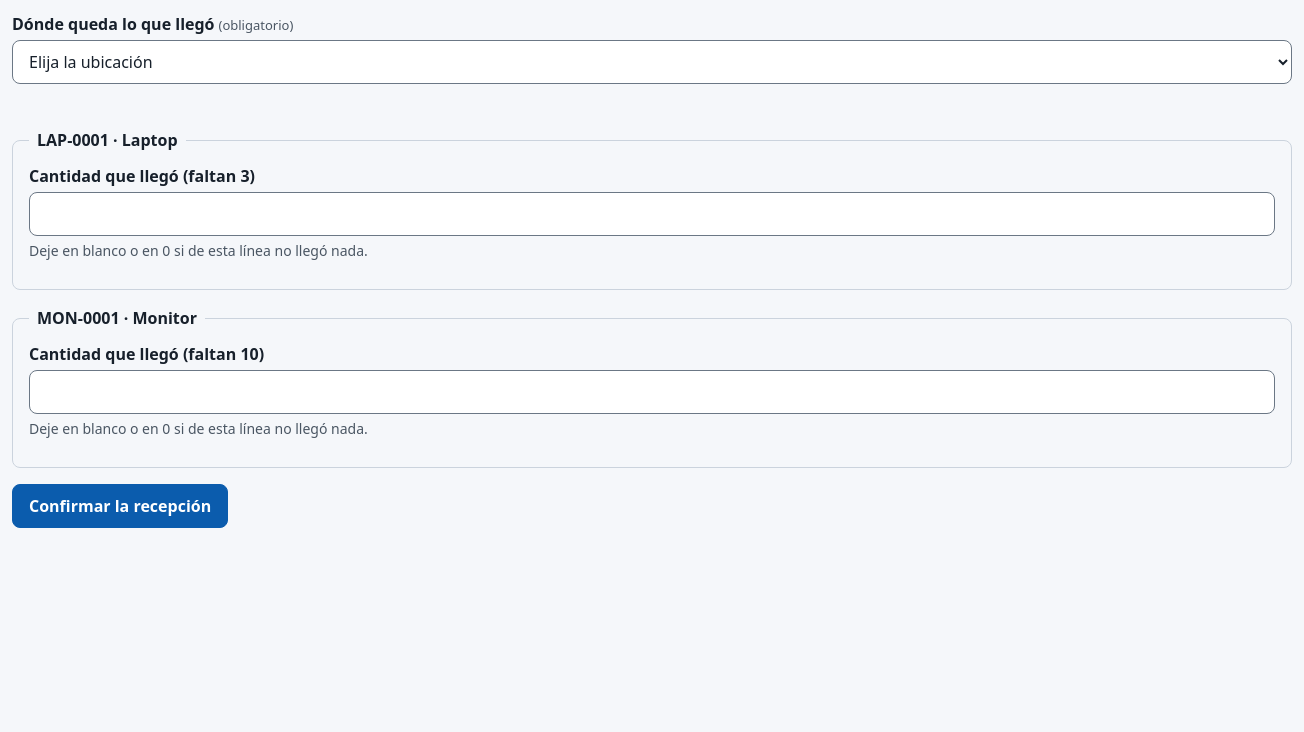
it: FormularioRecibir › pide series solo para la línea por serie y solo cuando llegó algo
Later steps or results of the test are not shown.
Type "2" into the number field with test id "cantidad-LAP-0001". click: (652, 214)
box: [29,192,1275,236]
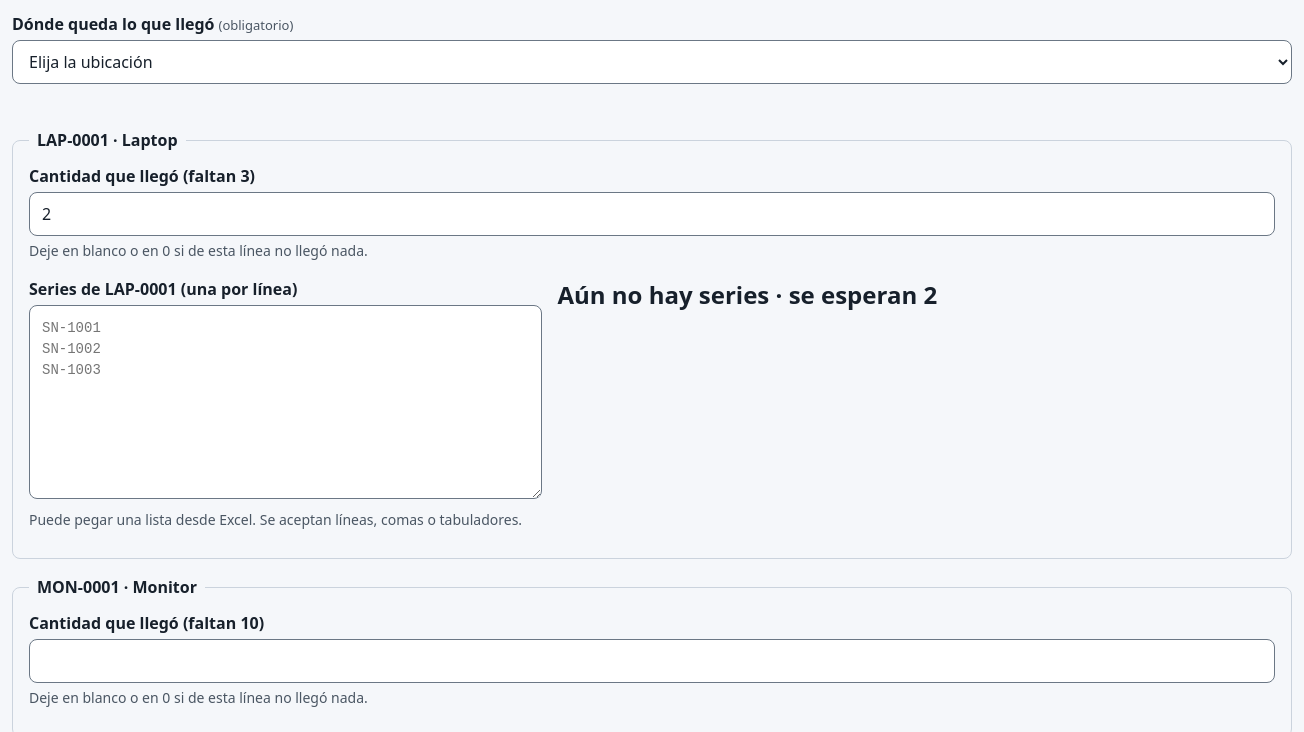
Check: the element with test id "series-LAP-0001-captura" is shown, box [29,278,937,529]
